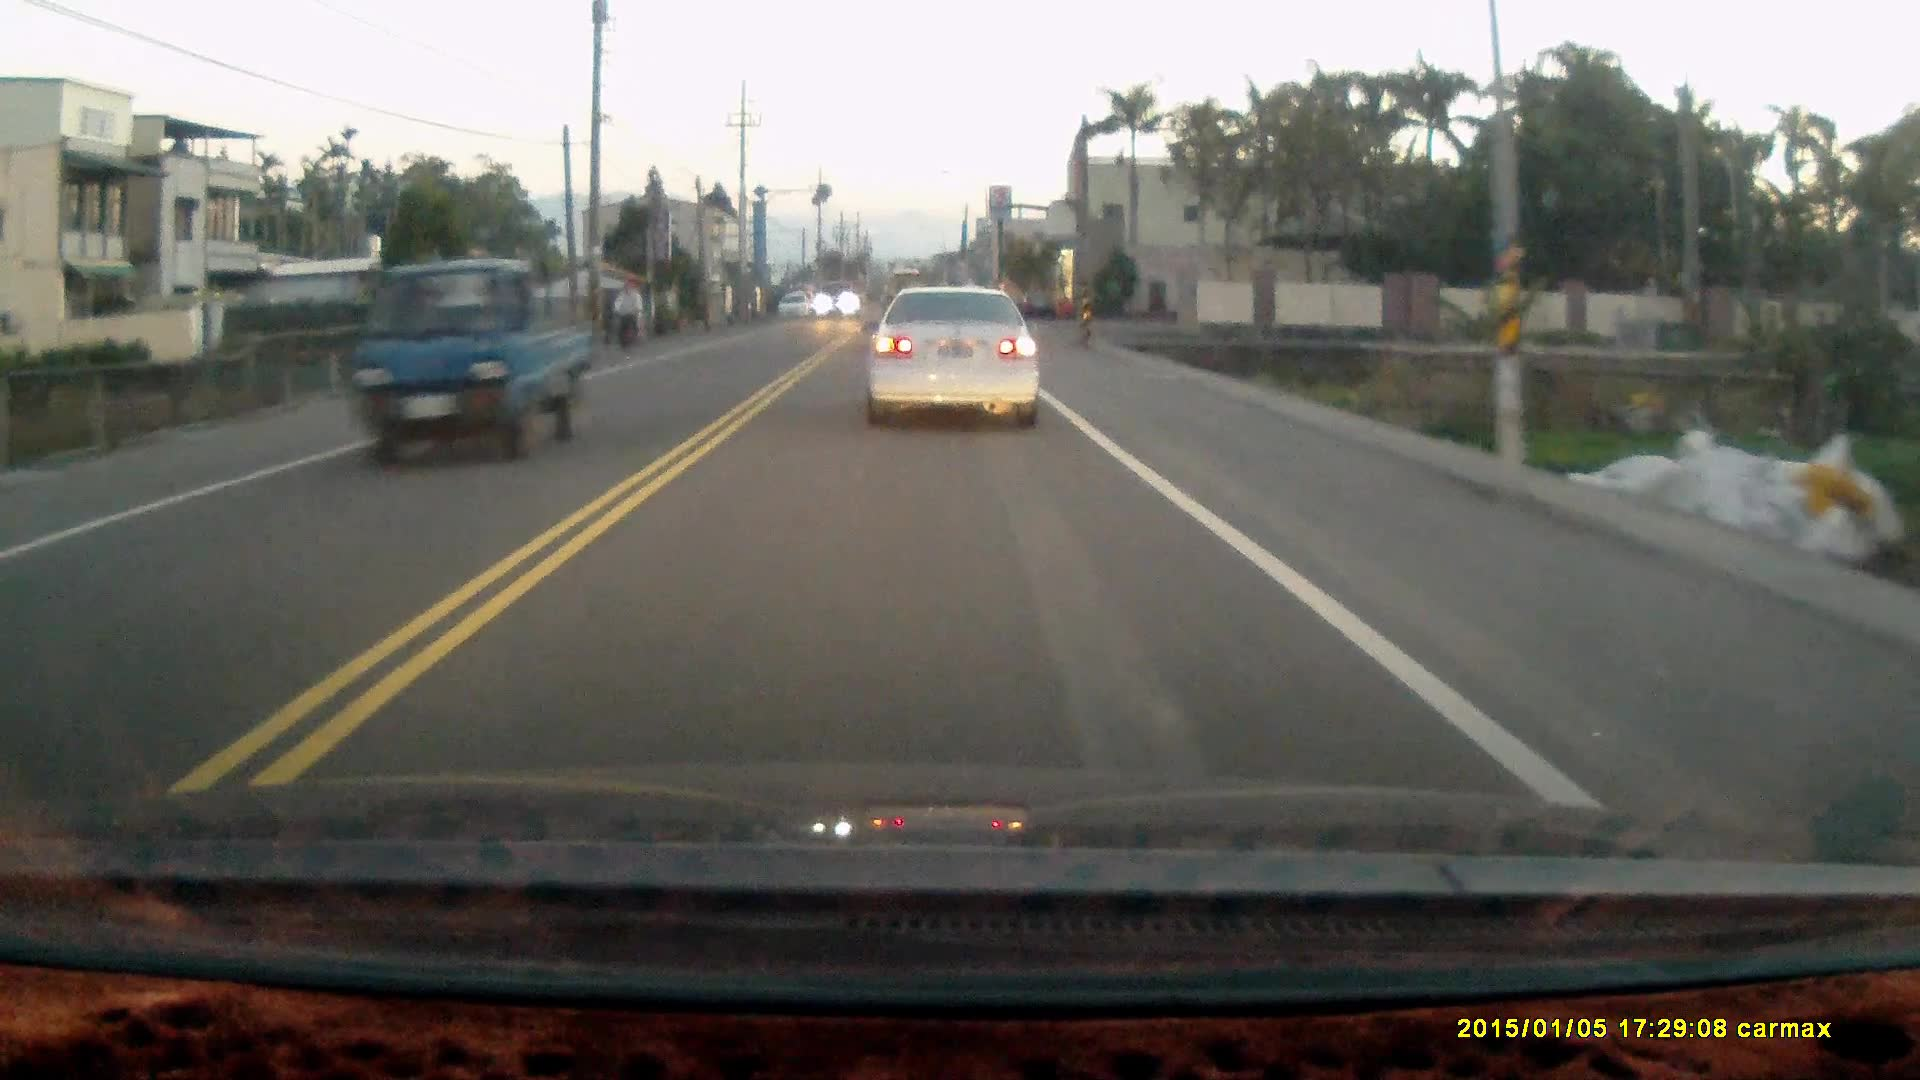rider: (611, 278, 642, 362)
vehicle: (348, 256, 592, 463), (868, 288, 1045, 428), (814, 280, 855, 321), (1020, 286, 1057, 317), (777, 295, 811, 324)
